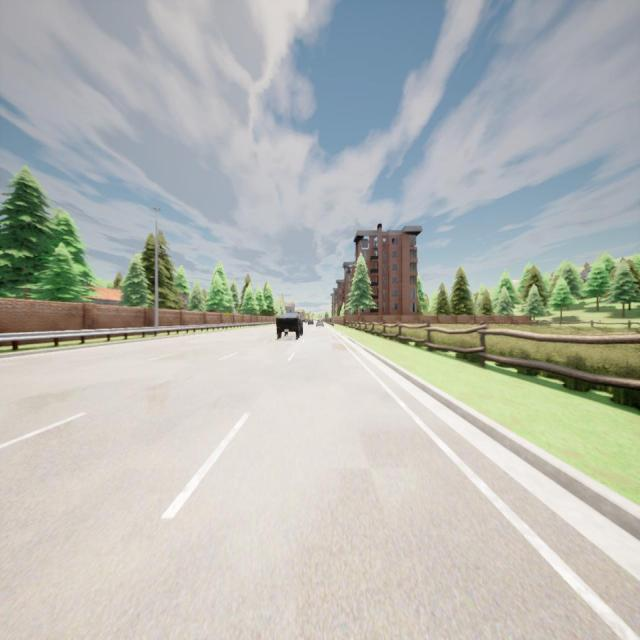Traffic_Signs: (226, 312, 230, 318)
Vehicle: (276, 312, 303, 342), (316, 319, 324, 328), (308, 317, 314, 326)
